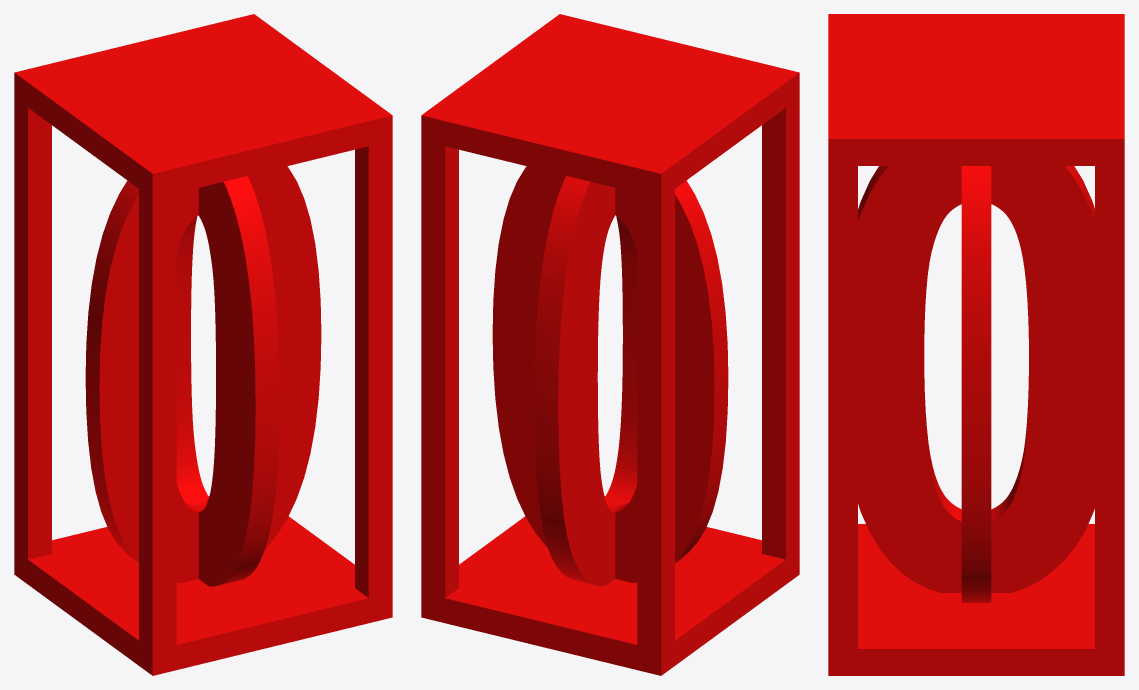
File: RinNumber.FBX
The picture shows the model from 3 angles, left to right: view 1: azimuth 30°, elevation 25°; view 2: azimuth 150°, elevation 25°; view 3: azimuth 270°, elevation 25°; orthographic projection. The views are drawn at different scales.
Parts seen in each view (by area): view 1: RinNumber_LOD0; view 2: RinNumber_LOD0; view 3: RinNumber_LOD0.
Part boxes in pixels (bbox=[...]): RinNumber_LOD0: bbox=[14, 14, 392, 675]; RinNumber_LOD0: bbox=[421, 14, 799, 675]; RinNumber_LOD0: bbox=[828, 14, 1124, 675].
Size of what is drawn, in the model's own units: 100 by 100 by 200.
